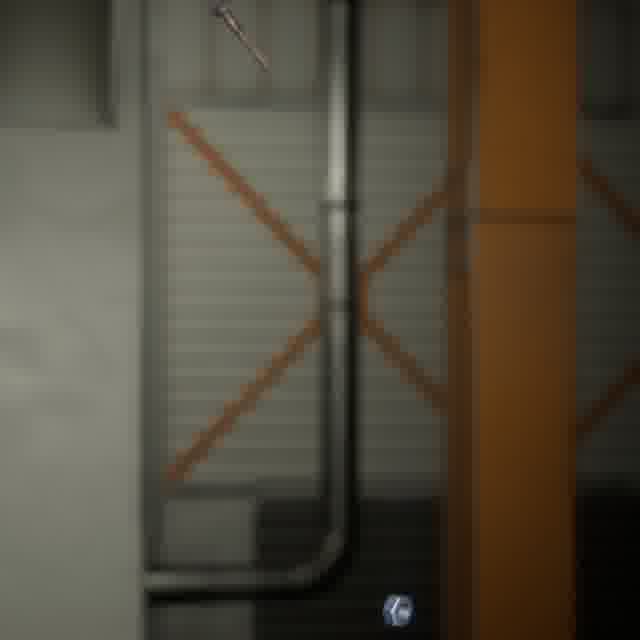bolt: (206, 0, 276, 77)
nut: (378, 590, 418, 630)
